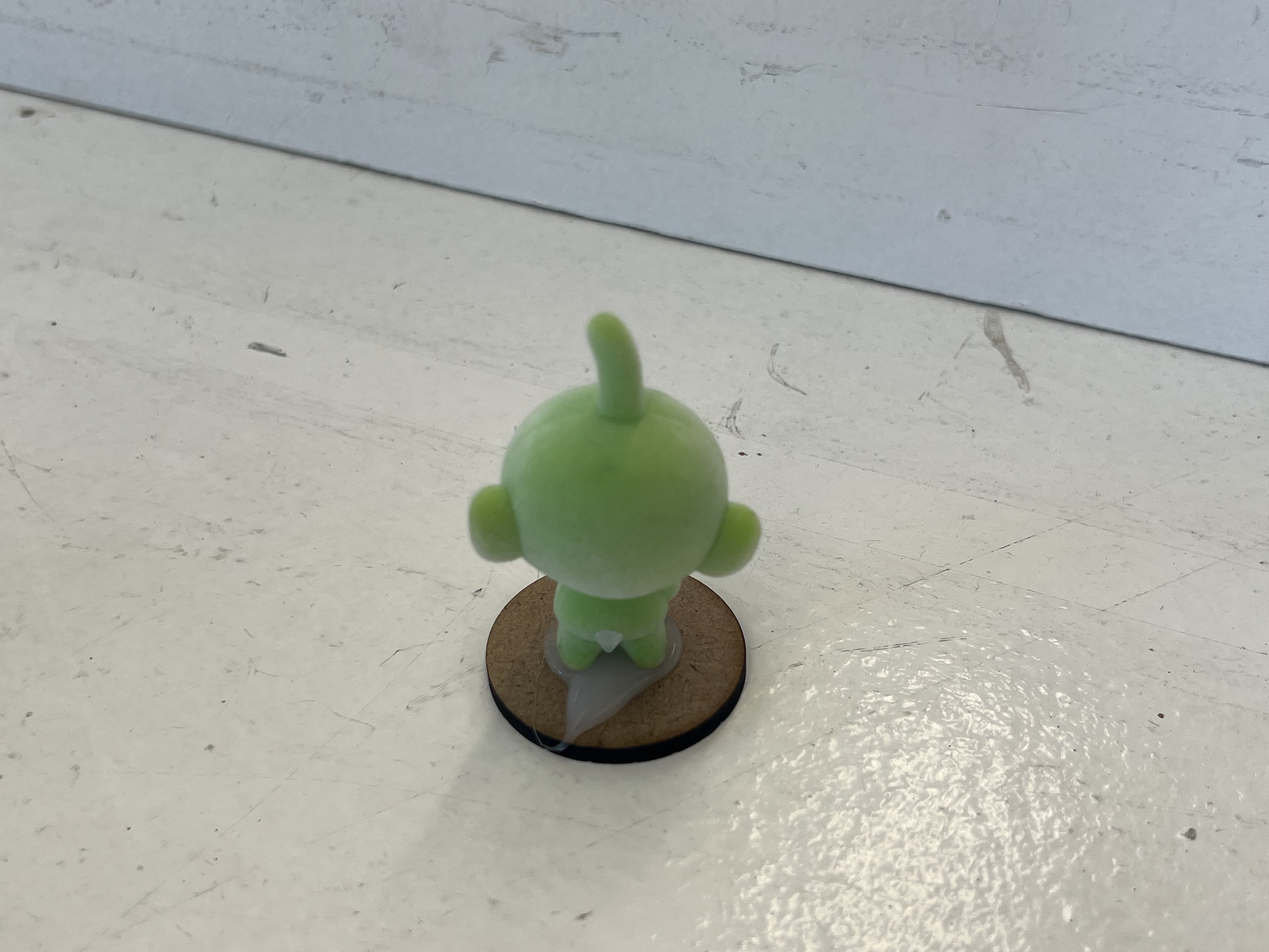teletubby: (469, 313, 761, 670)
